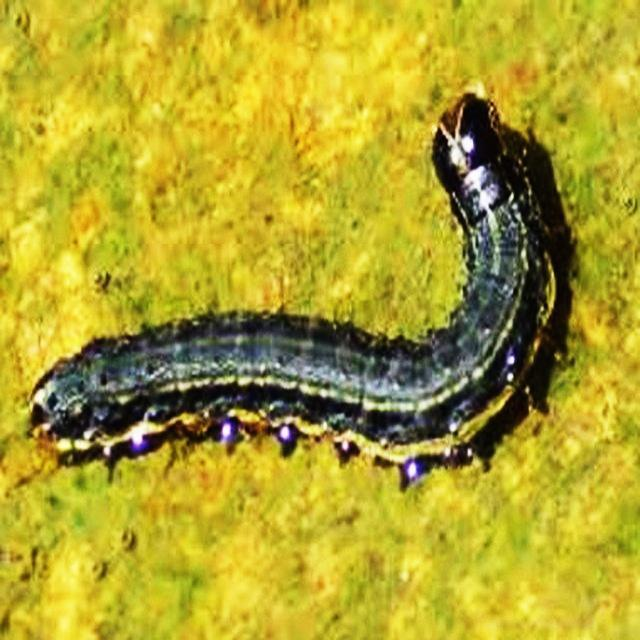gusano_cogollero: (26, 85, 564, 489)
